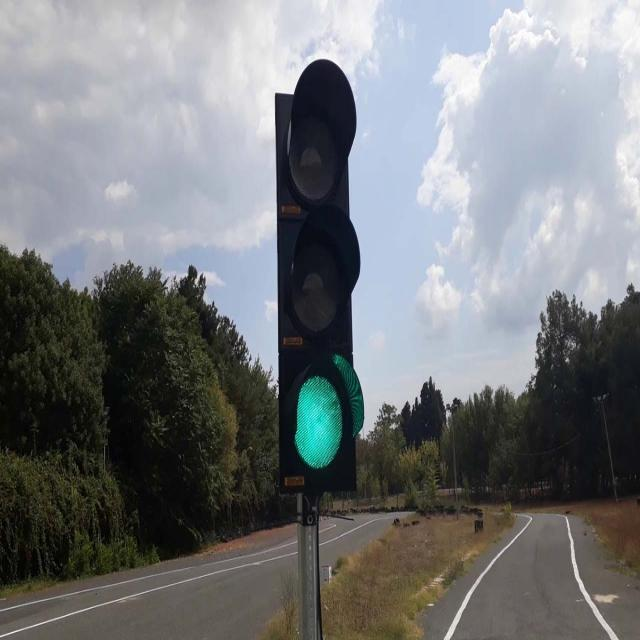yesil: (277, 68, 363, 494)
